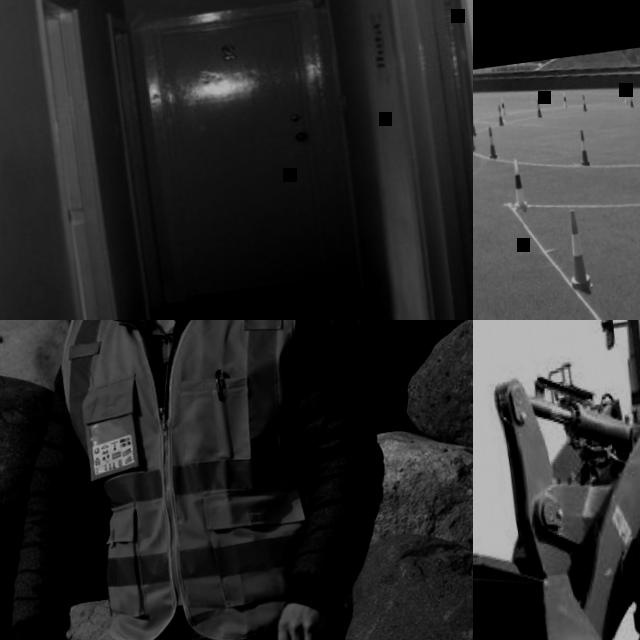Person: (0, 320, 425, 640)
Safety Cone: (561, 209, 595, 293), (510, 160, 529, 211), (577, 130, 591, 165), (486, 127, 498, 159), (473, 105, 477, 150), (497, 105, 505, 126), (536, 99, 542, 117), (582, 94, 588, 111), (501, 99, 507, 115), (473, 112, 477, 135), (629, 91, 635, 106), (624, 88, 629, 103), (563, 92, 568, 107)
Safety Vest: (56, 320, 369, 640)
machinery: (473, 320, 640, 640)
